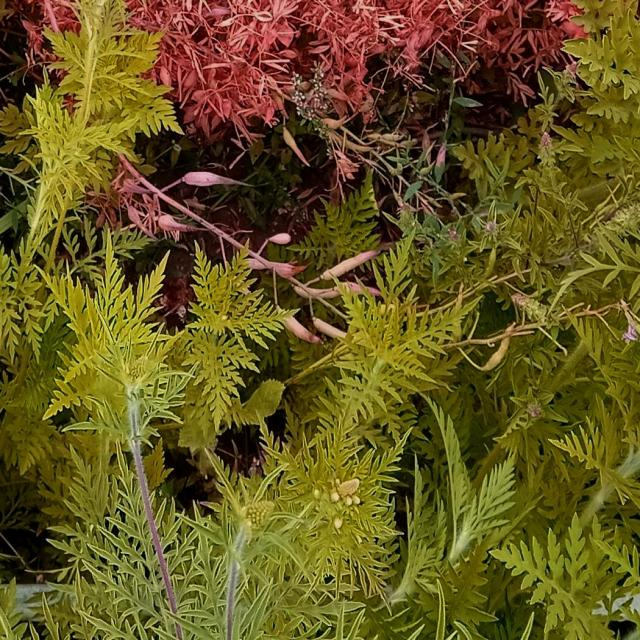AMBEL: (8, 0, 195, 263), (396, 392, 538, 639), (534, 310, 640, 590), (332, 224, 461, 449), (186, 219, 297, 459), (65, 213, 174, 454), (302, 176, 401, 269)
